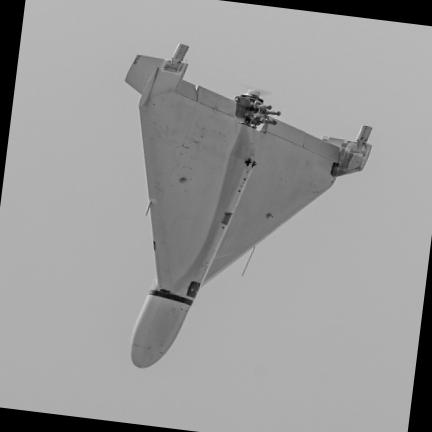Shahed: (126, 56, 366, 367)
